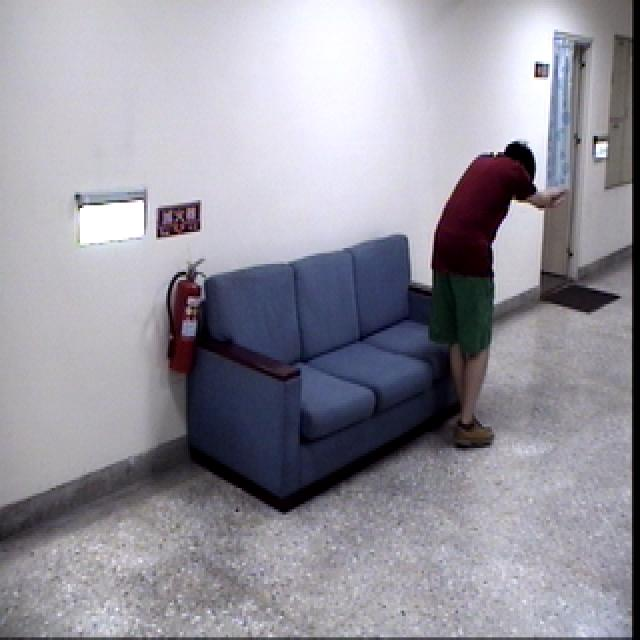bend: (426, 130, 578, 459)
